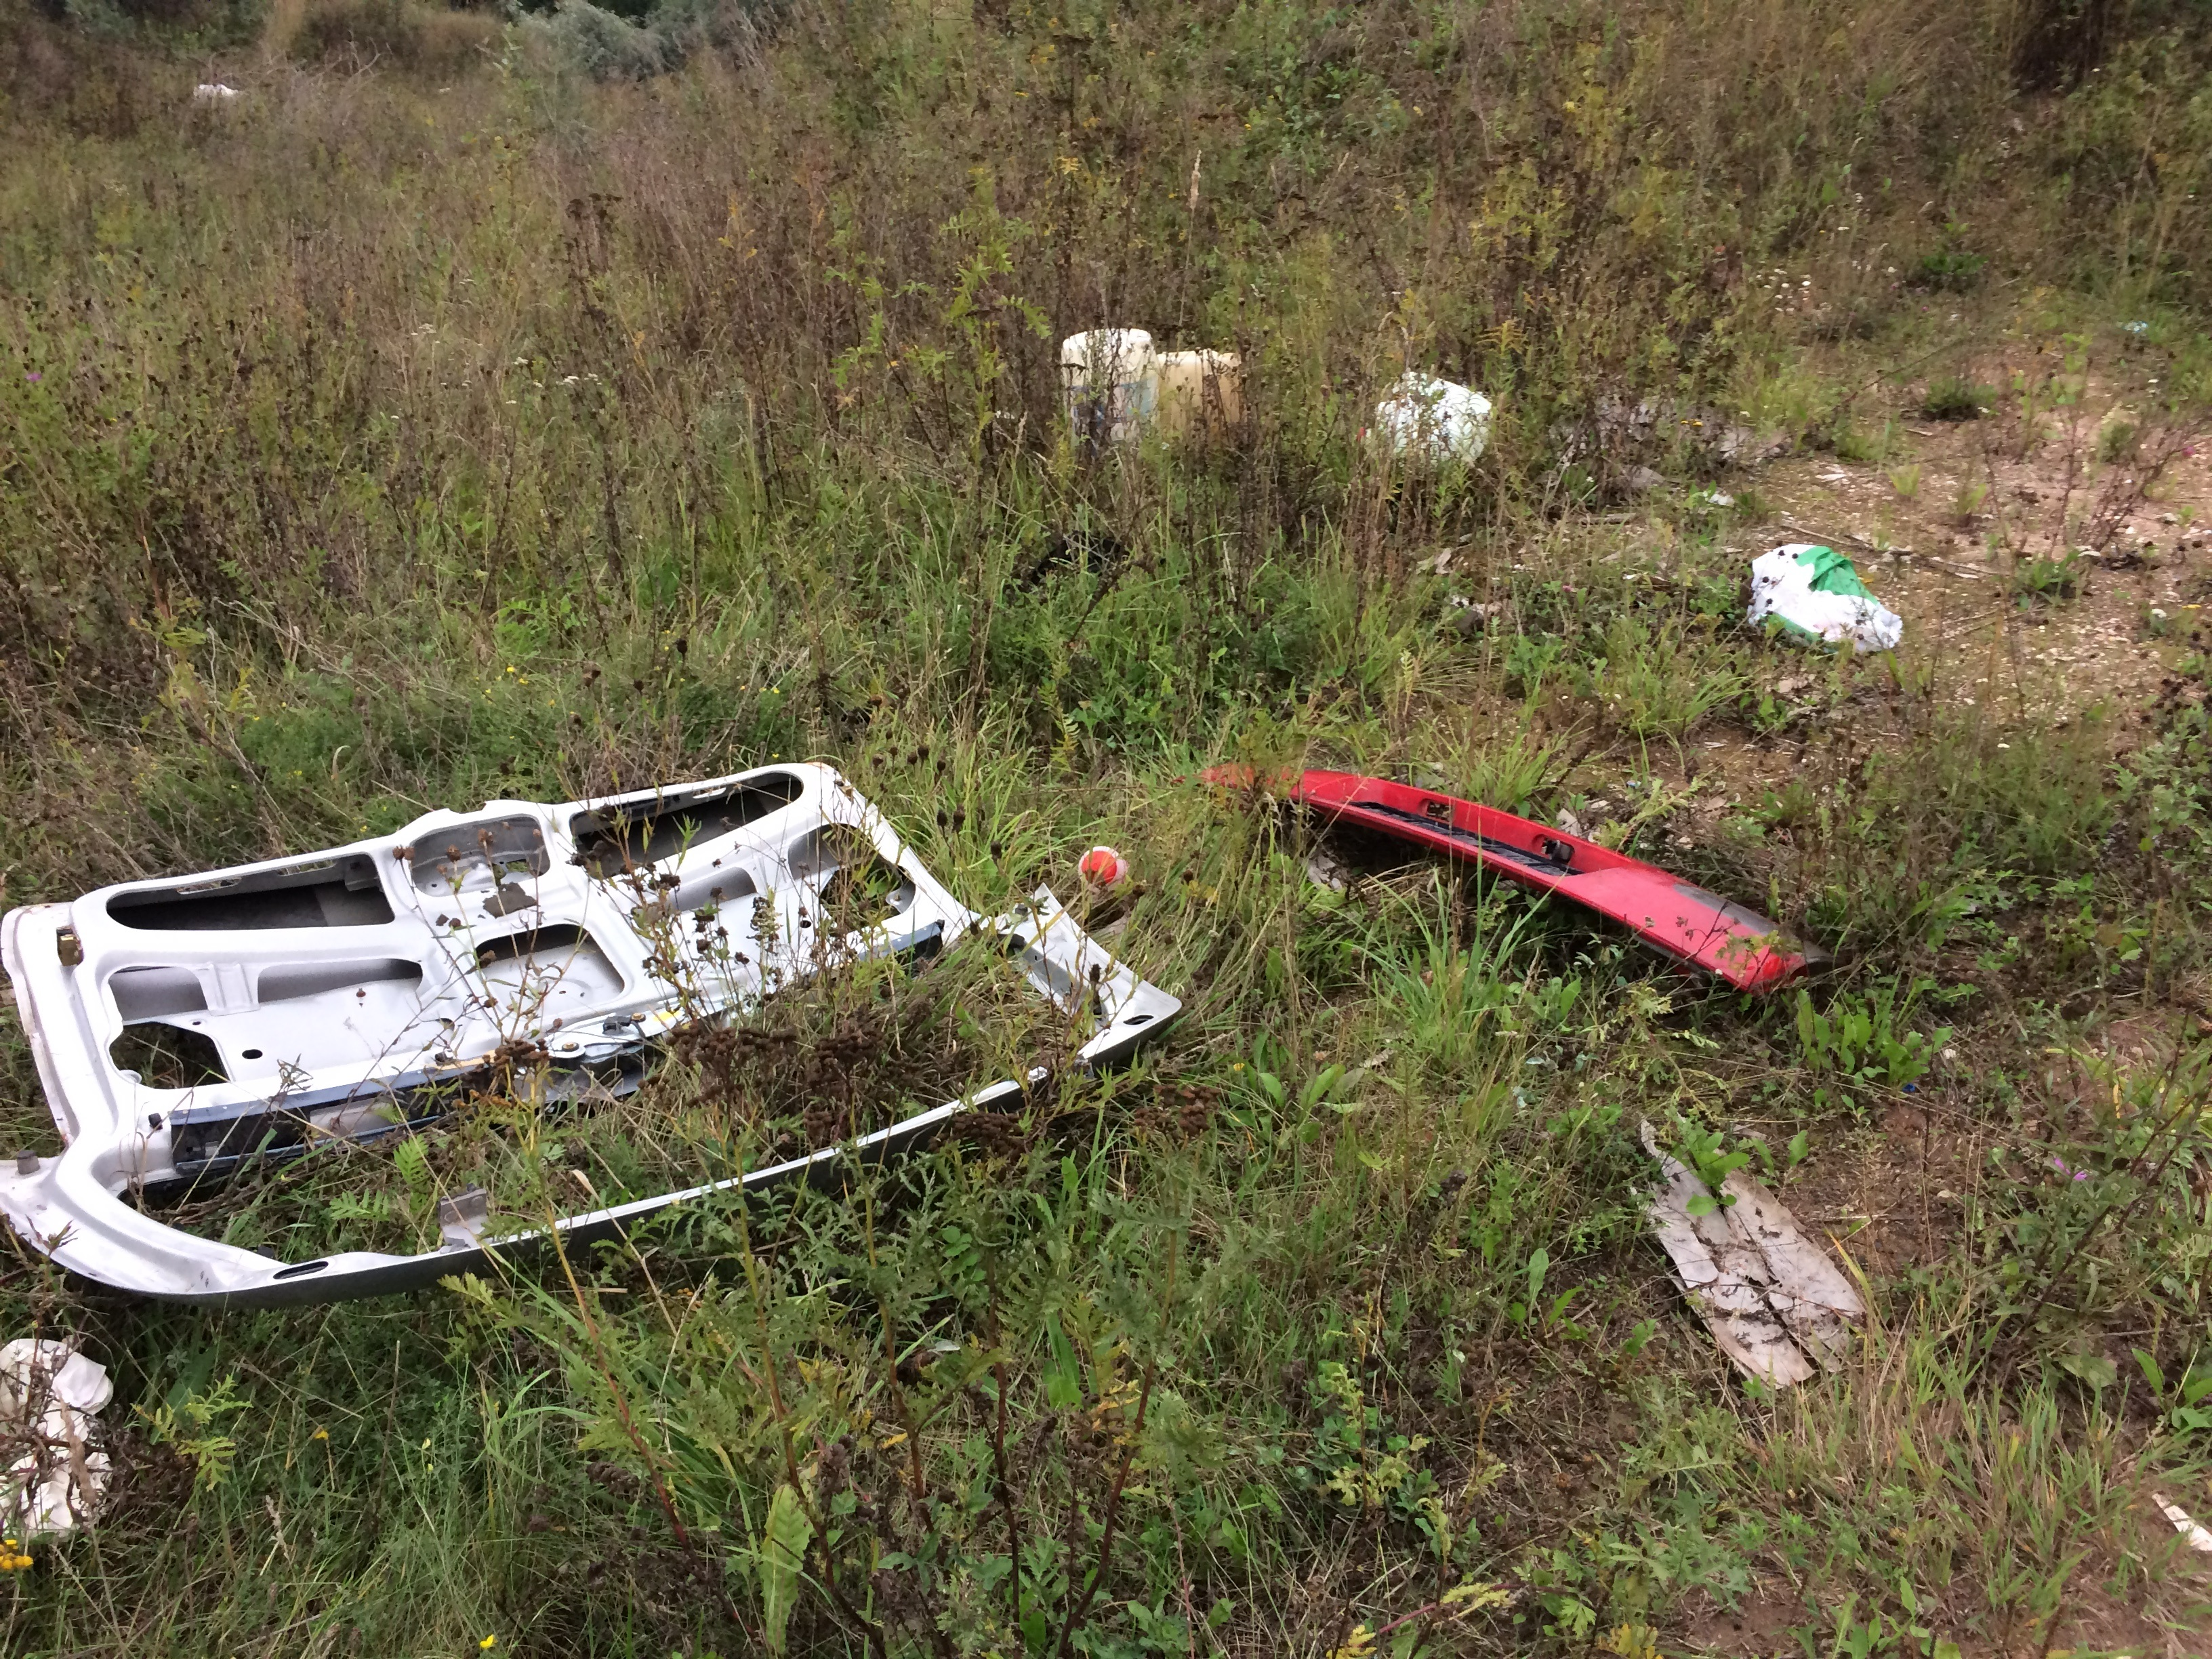trash: (0, 697, 1165, 1549), (1270, 683, 1886, 1066), (1576, 1070, 1902, 1415), (1043, 310, 1280, 481), (1730, 537, 1961, 674), (1366, 335, 1519, 504)
